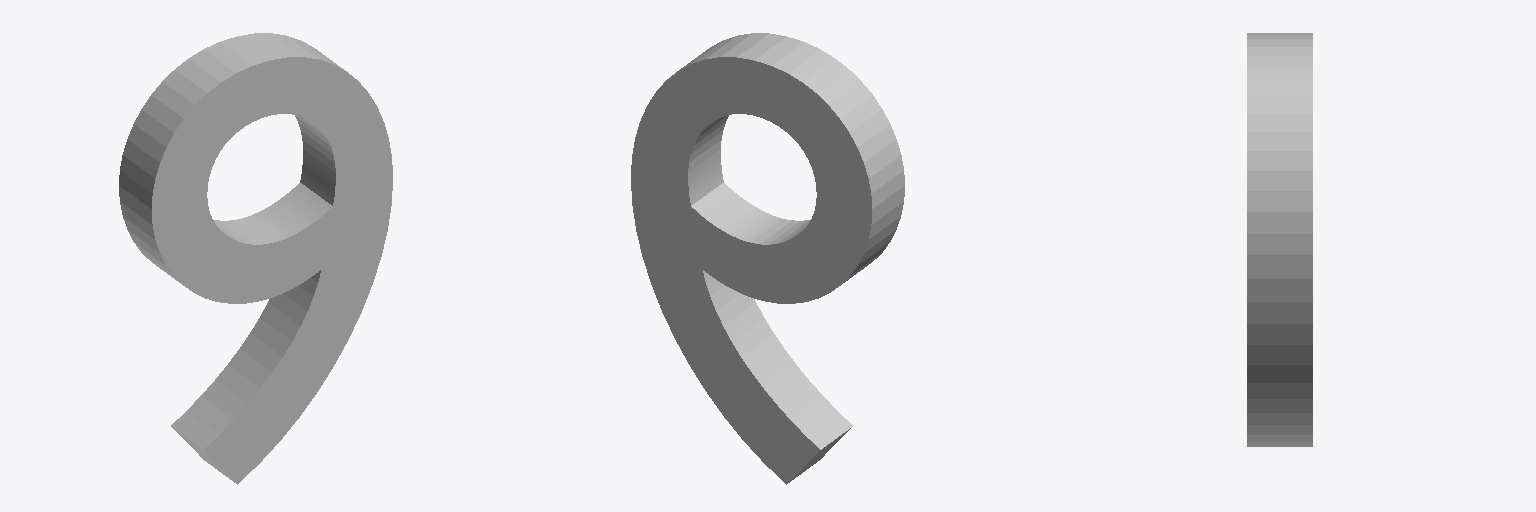
The picture shows the model from 3 angles: view 1: azimuth 30°, elevation 25°; view 2: azimuth 150°, elevation 25°; view 3: azimuth 270°, elevation 25°; orthographic projection.
Visible parts, largest first — view 1: Text.008_CUText.008; view 2: Text.008_CUText.008; view 3: Text.008_CUText.008.
Part boxes in pixels (left/top/right/bottom): Text.008_CUText.008: left=119, top=33, right=392, bottom=484; Text.008_CUText.008: left=631, top=33, right=904, bottom=484; Text.008_CUText.008: left=1247, top=33, right=1312, bottom=446.
Size of the model in its own units: 0.425 by 0.7 by 0.1.